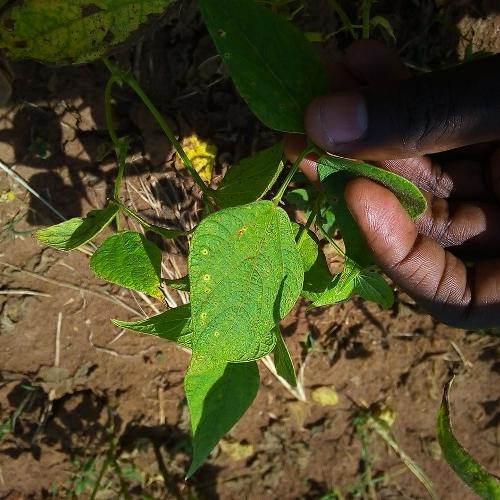hawar: (154, 189, 292, 331)
